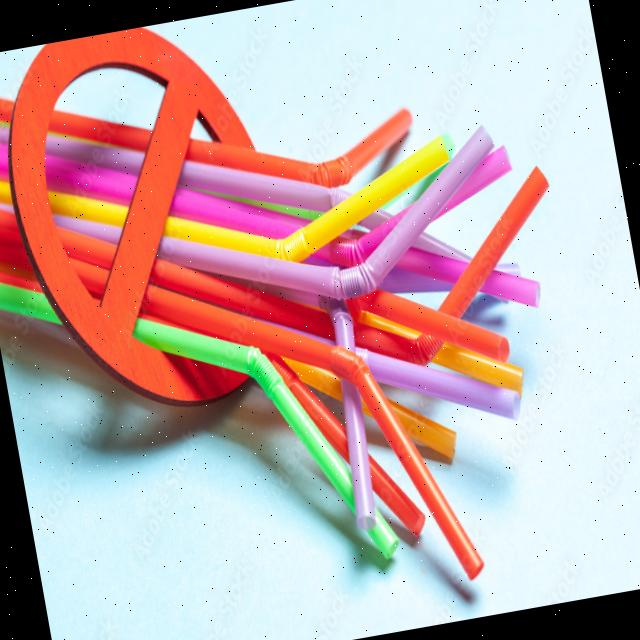plastic: (172, 110, 516, 342)
